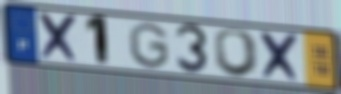1: (83, 14, 112, 70)
3: (172, 23, 214, 76)
G: (126, 21, 171, 70)
O: (212, 28, 262, 79)
X: (257, 30, 304, 85), (37, 10, 82, 65)
